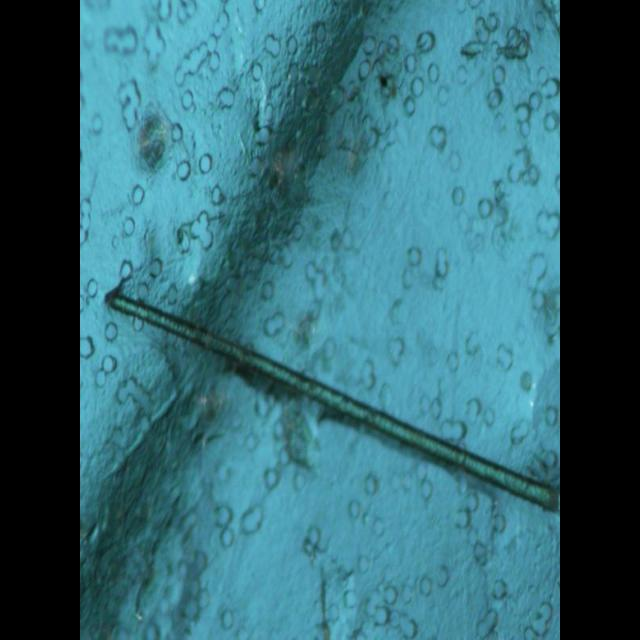Fibre: (104, 272, 558, 516)
